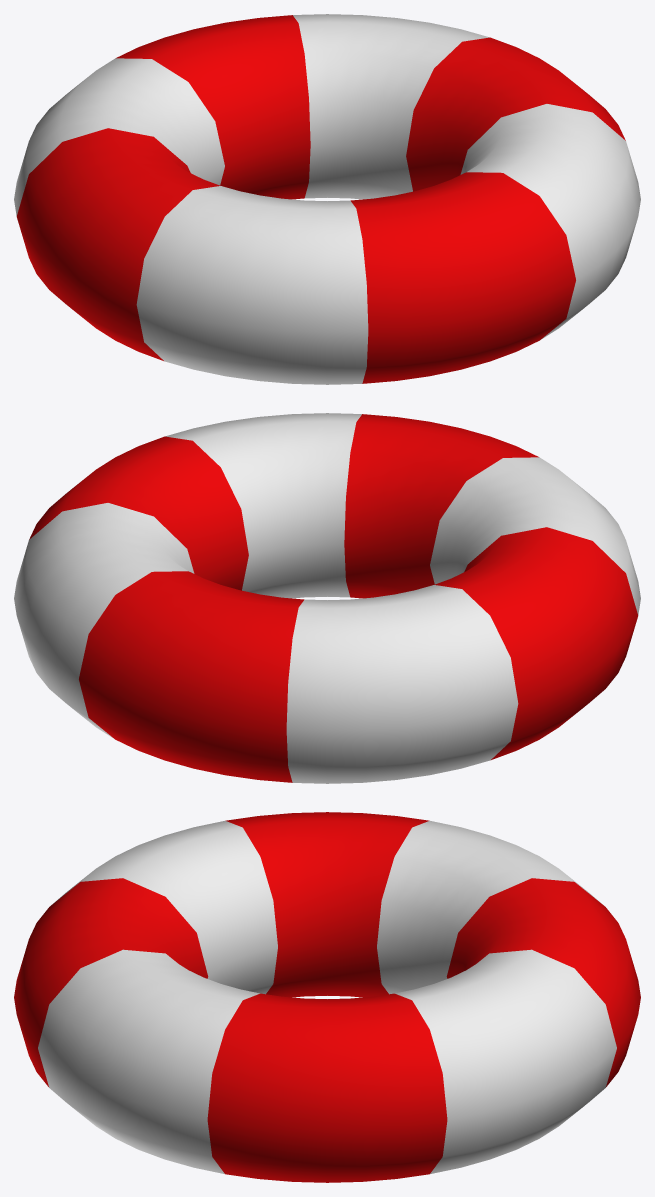
File: Float.fbx
The picture shows the model from 3 angles, top to bottom: view 1: azimuth 30°, elevation 25°; view 2: azimuth 150°, elevation 25°; view 3: azimuth 270°, elevation 25°; orthographic projection.
Visible parts, largest first — view 1: Torus.001; view 2: Torus.001; view 3: Torus.001.
Part boxes in pixels (x1=…): Torus.001: x1=14, y1=14, x2=640, y2=384; Torus.001: x1=14, y1=413, x2=640, y2=783; Torus.001: x1=14, y1=812, x2=640, y2=1182.
Size of the model in its own units: 170 by 50 by 170.
